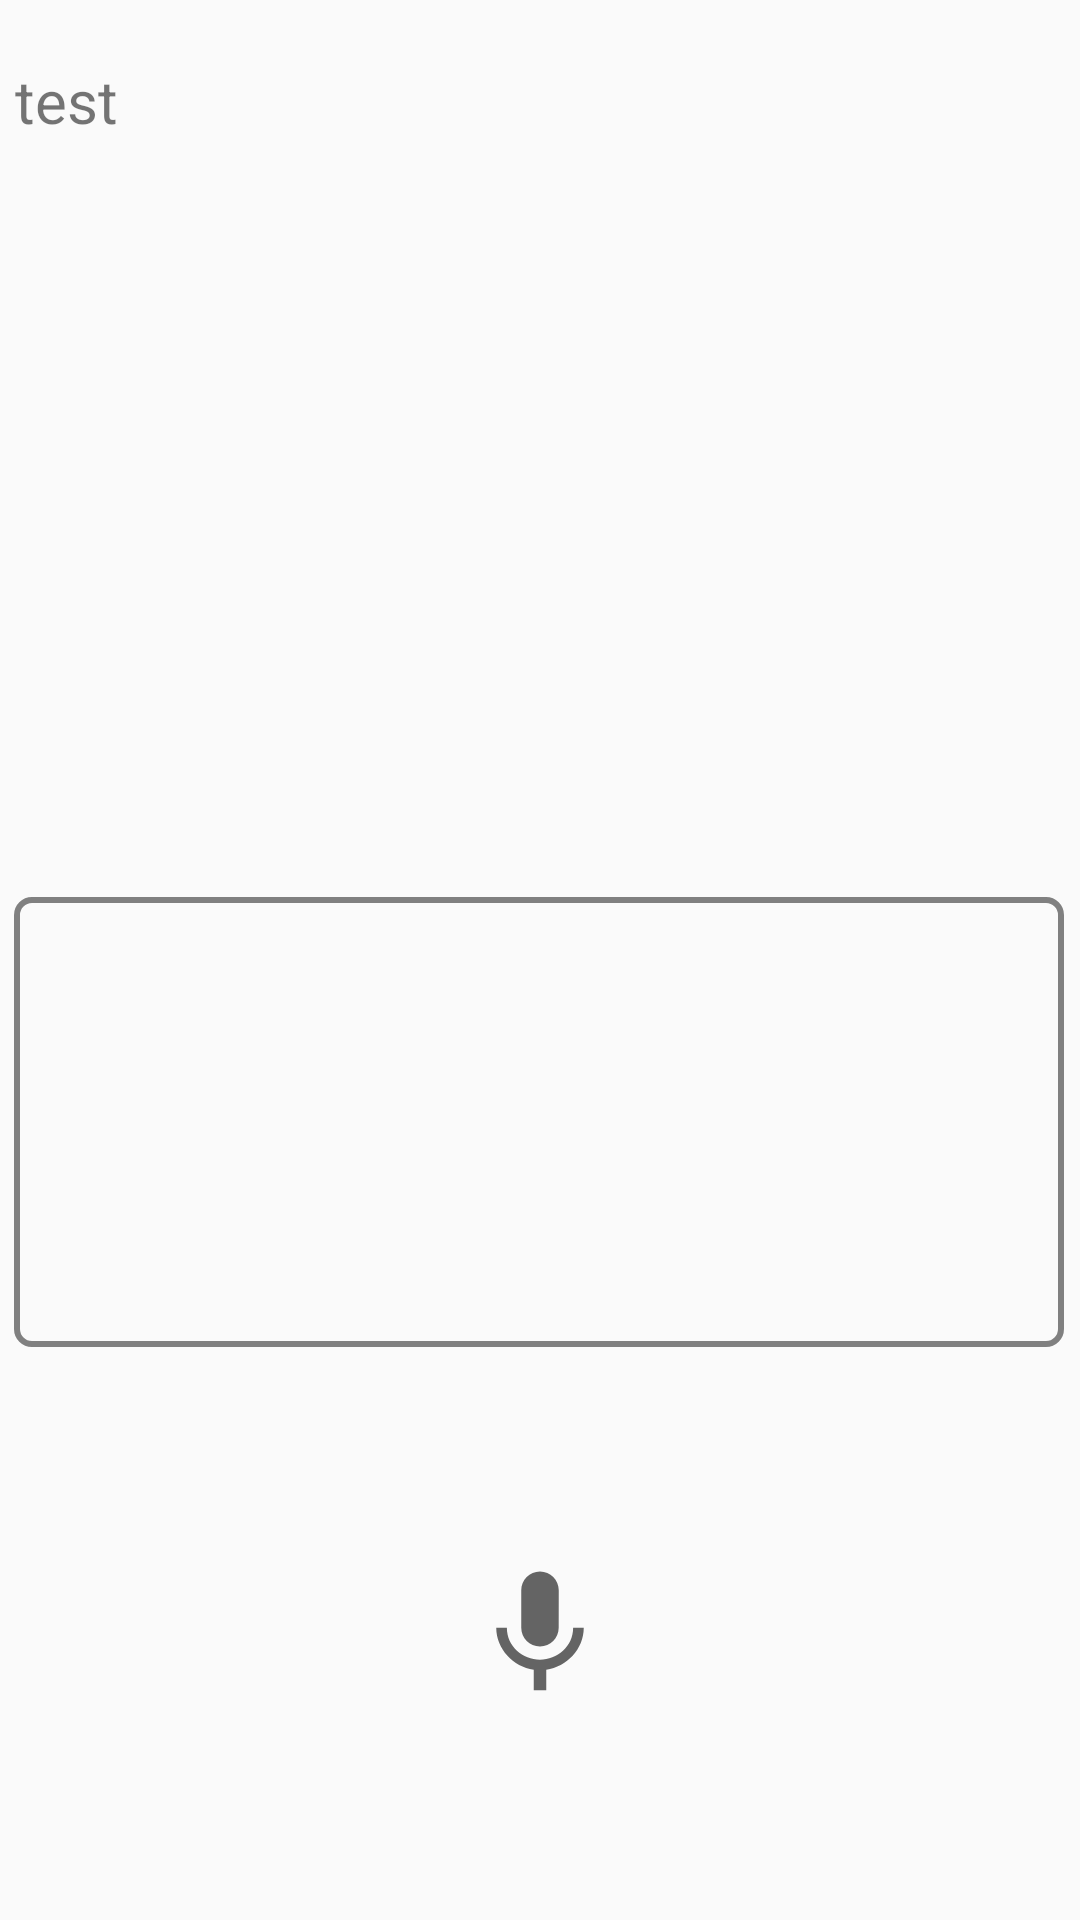

Icon click points for this 1080w x 1920h phone screenshot, format [x,y]:
mic: [540,1631]
